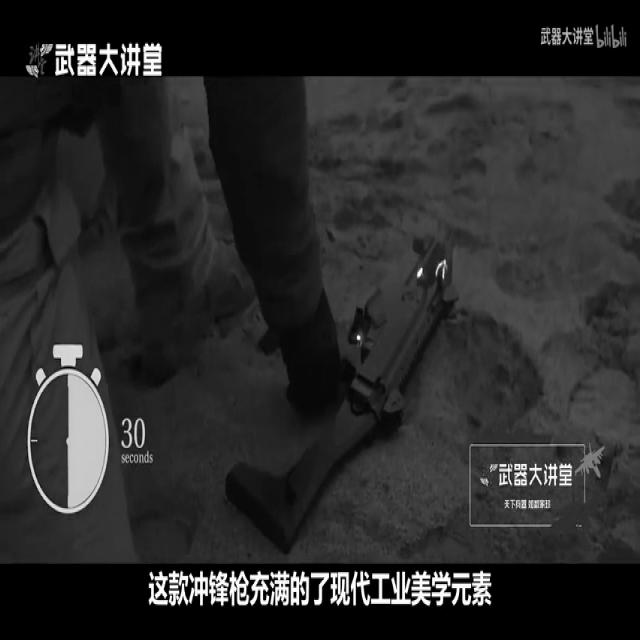Rifle: (194, 178, 496, 562)
